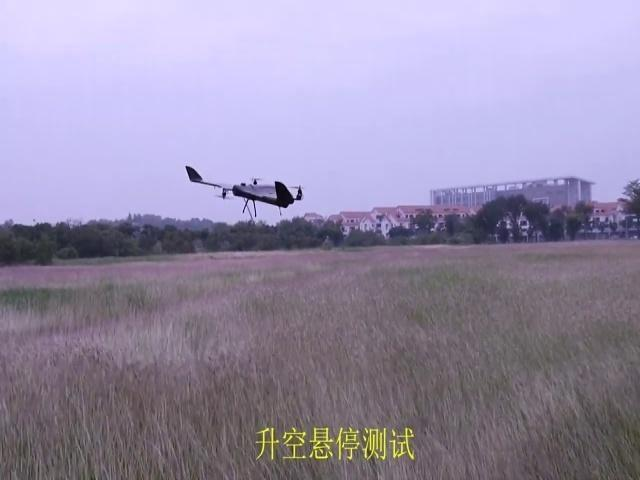Airplane: (186, 165, 303, 219)
